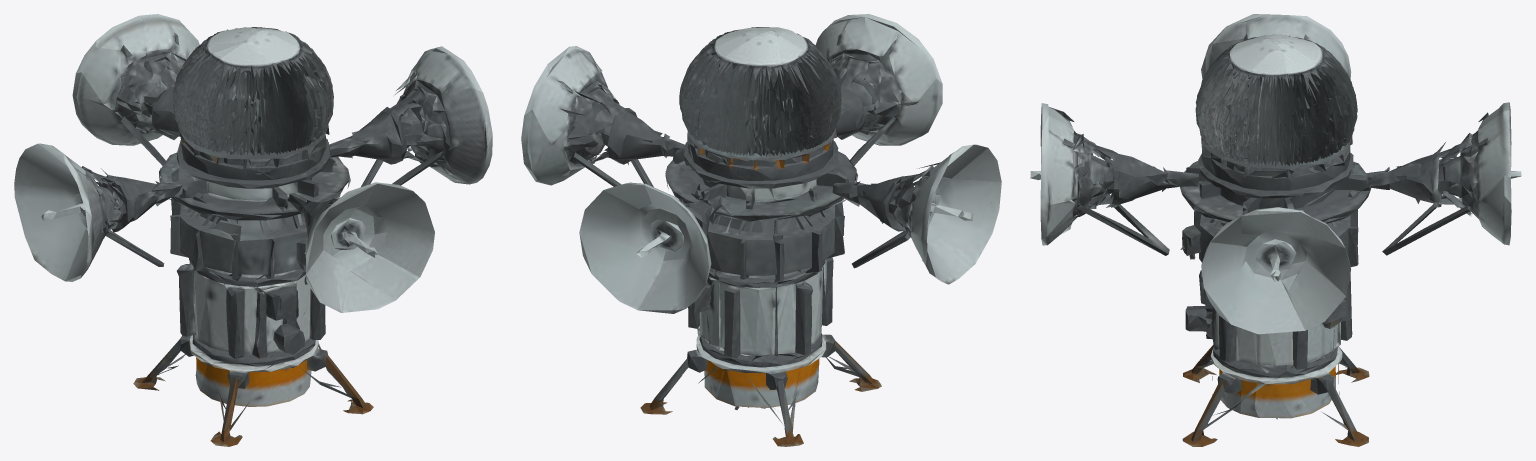
File: web.glb
3 renders of one model, left to right at view 1: azimuth 30°, elevation 25°; view 2: azimuth 150°, elevation 25°; view 3: azimuth 270°, elevation 25°, orthographic.
Parts seen in each view (by area): view 1: output_unwrapped; view 2: output_unwrapped; view 3: output_unwrapped.
Boxes of the visible parts, left/top/right/bottom form: output_unwrapped: left=14, top=14, right=492, bottom=446; output_unwrapped: left=521, top=14, right=1001, bottom=446; output_unwrapped: left=1030, top=14, right=1521, bottom=446.
Size of the model in its own units: 1.9 by 1.59 by 1.9.
1 material, 1 textured.
